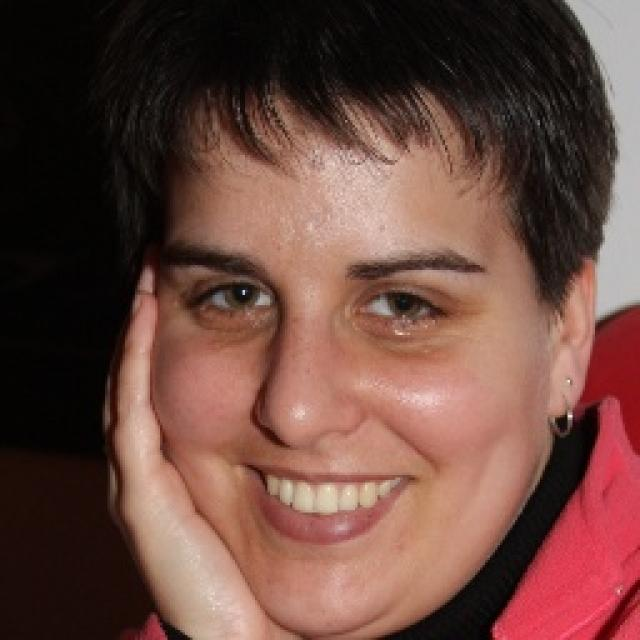earlobe: (548, 366, 588, 422)
eye: (354, 291, 446, 327), (195, 282, 277, 315)
nose: (253, 418, 363, 466)
wholeear: (548, 257, 599, 421)
